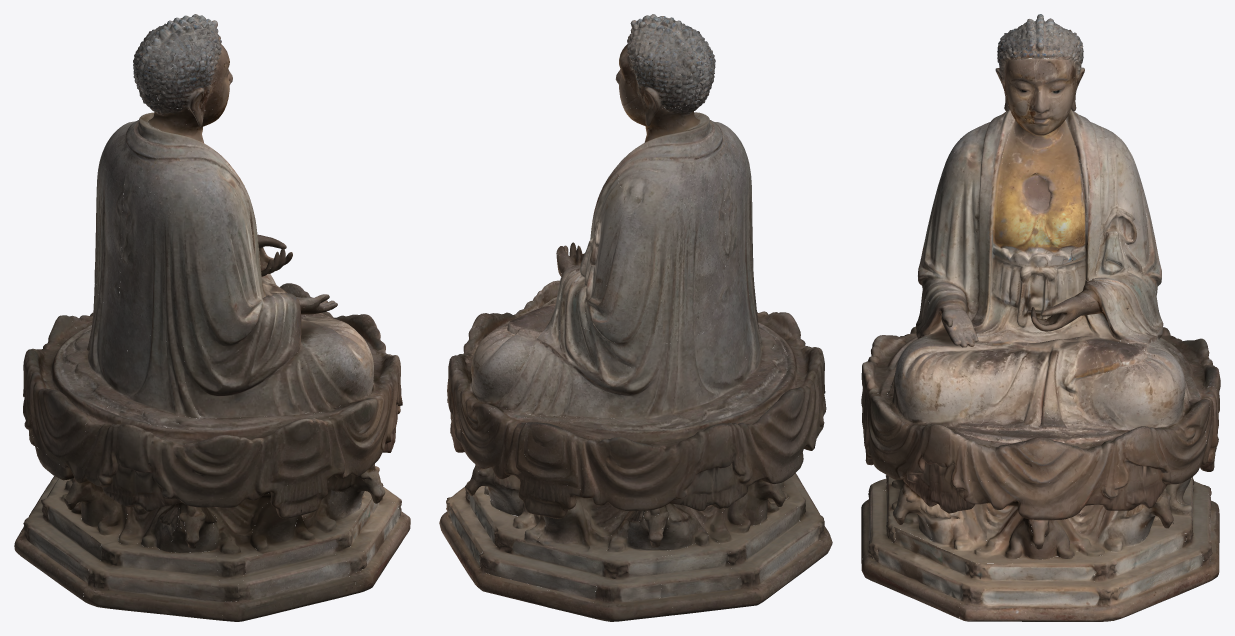
File: f3-ratnasambhava.glb
3 views of the same model, side by side, from view 1: azimuth 30°, elevation 25°; view 2: azimuth 150°, elevation 25°; view 3: azimuth 270°, elevation 25° (orthographic). The views are drawn at different scales.
Parts seen in each view (by area): view 1: tripo_node_72b36569-73fc-4dad-a972-2721f0c00922; view 2: tripo_node_72b36569-73fc-4dad-a972-2721f0c00922; view 3: tripo_node_72b36569-73fc-4dad-a972-2721f0c00922.
Boxes of the visible parts, <box> form: tripo_node_72b36569-73fc-4dad-a972-2721f0c00922: <box>14,14,410,621</box>; tripo_node_72b36569-73fc-4dad-a972-2721f0c00922: <box>439,14,832,621</box>; tripo_node_72b36569-73fc-4dad-a972-2721f0c00922: <box>861,14,1220,621</box>.
Bounding box in the file's own units: 0.6385 × 1 × 0.6337.
Materials: 1 (1 with a texture image).
